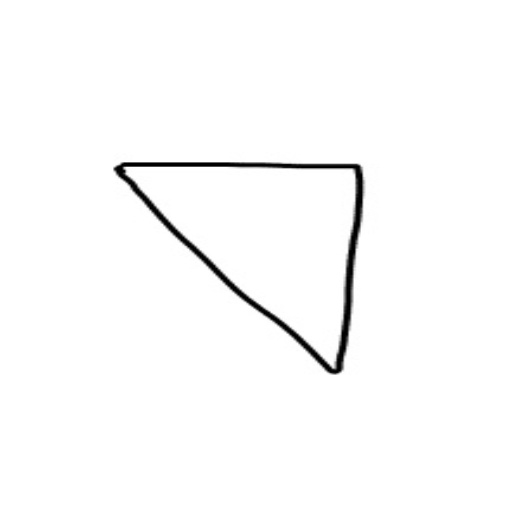triangle: (98, 154, 371, 387)
